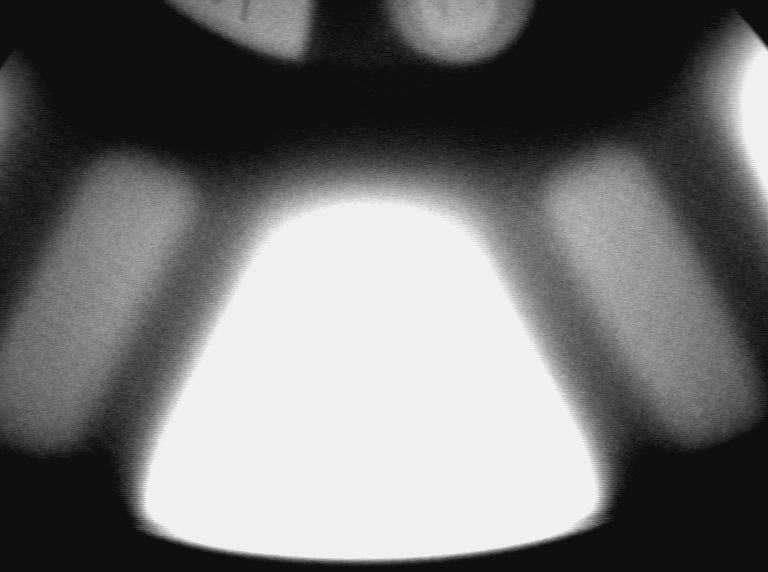defect: (684, 397, 709, 425)
